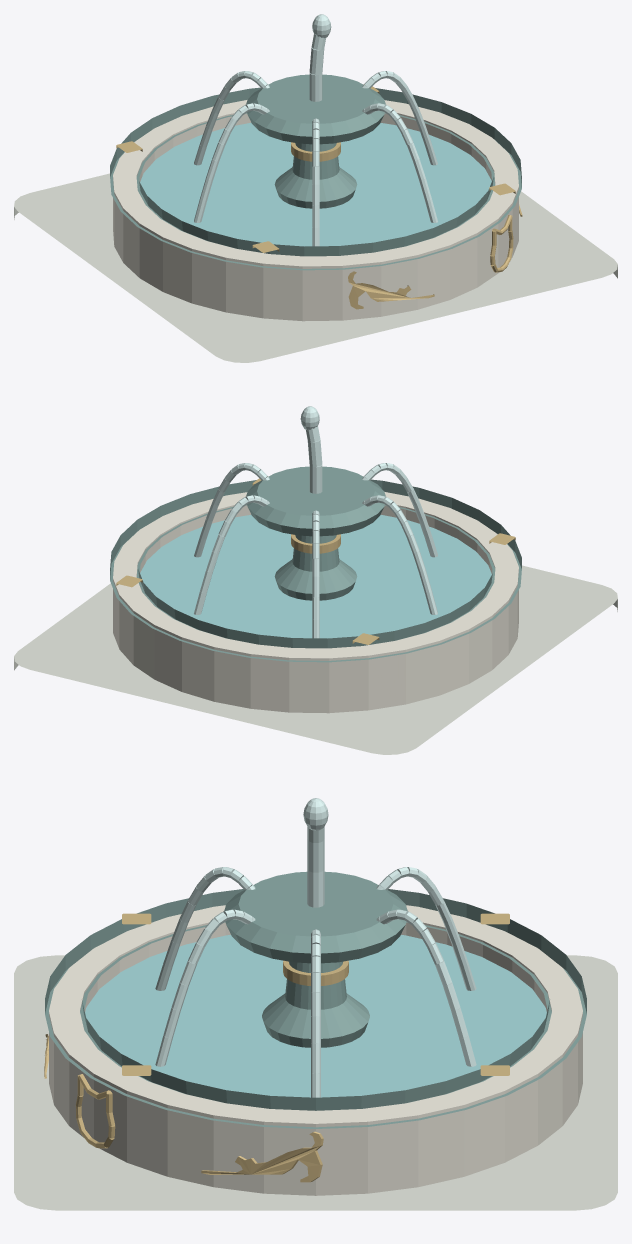
File: komichi-fountain-cat.glb
The picture shows the model from 3 angles, top to bottom: view 1: azimuth 30°, elevation 25°; view 2: azimuth 150°, elevation 25°; view 3: azimuth 270°, elevation 25°; orthographic projection. The views are drawn at different scales.
Parts seen in each view (by area): view 1: Fountain_Basin, Fountain_Pedestal, Fountain_Water, Cat_Decor_-0.97, Cat_Decor_Center; view 2: Fountain_Basin, Fountain_Pedestal, Fountain_Water; view 3: Fountain_Basin, Fountain_Pedestal, Fountain_Water, Cat_Decor_0.97, Cat_Decor_Center.
Boxes of the visible parts, x1,y1,x2,y2 form: Fountain_Basin: (14, 84, 617, 362); Fountain_Pedestal: (246, 74, 385, 208); Fountain_Water: (194, 14, 437, 246); Cat_Decor_-0.97: (348, 271, 434, 309); Cat_Decor_Center: (490, 215, 513, 272); Fountain_Basin: (14, 476, 617, 754); Fountain_Pedestal: (246, 466, 385, 600); Fountain_Water: (194, 406, 437, 638); Fountain_Basin: (14, 889, 617, 1210); Fountain_Pedestal: (224, 871, 407, 1047); Fountain_Water: (155, 798, 476, 1097); Cat_Decor_0.97: (201, 1131, 323, 1182); Cat_Decor_Center: (75, 1074, 115, 1148).
Size of the model in its own units: 3.12 by 1.75 by 3.12.
